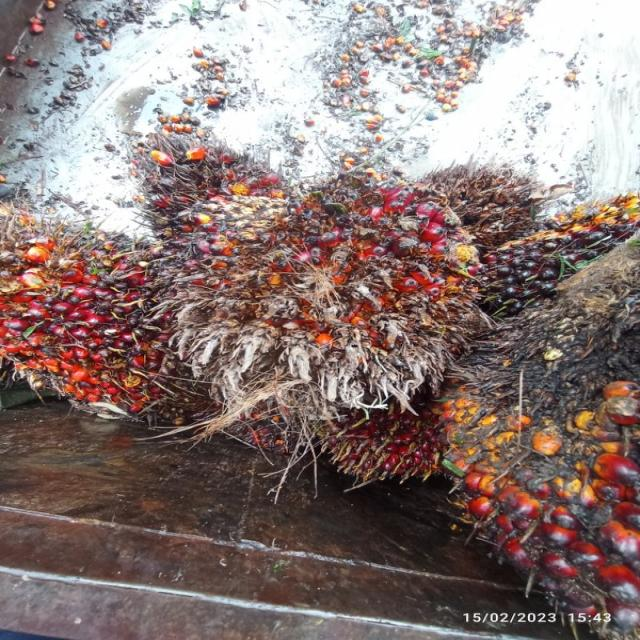fraksi 00: (437, 202, 640, 400)
fraksi 3: (0, 201, 189, 423)
fraksi 4: (122, 127, 501, 463)
